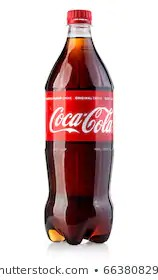coke-bottle-2l: (40, 3, 114, 245)
